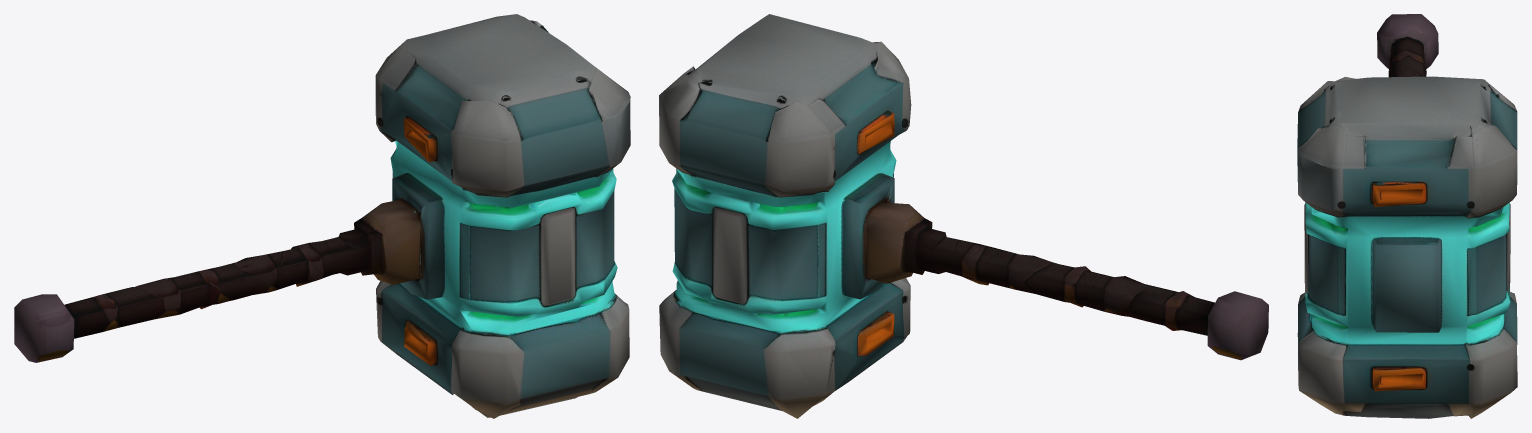
The model's file is weapon_plasma_sledgehammer_1500.glb.
3 renders of one model, left to right at view 1: azimuth 30°, elevation 25°; view 2: azimuth 150°, elevation 25°; view 3: azimuth 270°, elevation 25°, orthographic. The views are drawn at different scales.
Visible parts, largest first — view 1: tripo_node_22138bc1-ff74-42cf-b7aa-69b54d093ba3; view 2: tripo_node_22138bc1-ff74-42cf-b7aa-69b54d093ba3; view 3: tripo_node_22138bc1-ff74-42cf-b7aa-69b54d093ba3.
Boxes of the visible parts, bbox=[...] form: tripo_node_22138bc1-ff74-42cf-b7aa-69b54d093ba3: bbox=[14, 14, 630, 418]; tripo_node_22138bc1-ff74-42cf-b7aa-69b54d093ba3: bbox=[659, 14, 1268, 418]; tripo_node_22138bc1-ff74-42cf-b7aa-69b54d093ba3: bbox=[1297, 14, 1517, 418].
Size of the model in its own units: 0.9791 by 0.5373 by 0.3596.
Materials: 1 (1 with a texture image).
